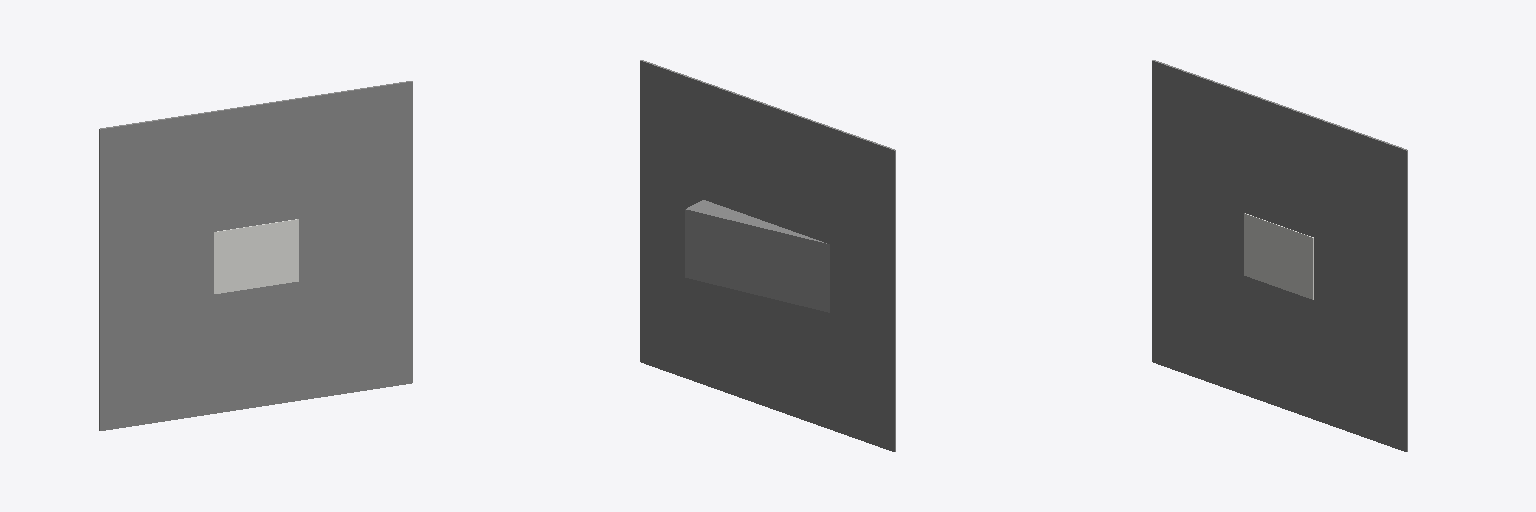
The model's file is ensaio.obj.
The picture shows the model from 3 angles: view 1: azimuth 30°, elevation 25°; view 2: azimuth 150°, elevation 25°; view 3: azimuth 330°, elevation 25°; orthographic projection.
Bounding box in the file's own units: 1957 × 1985 × 359.